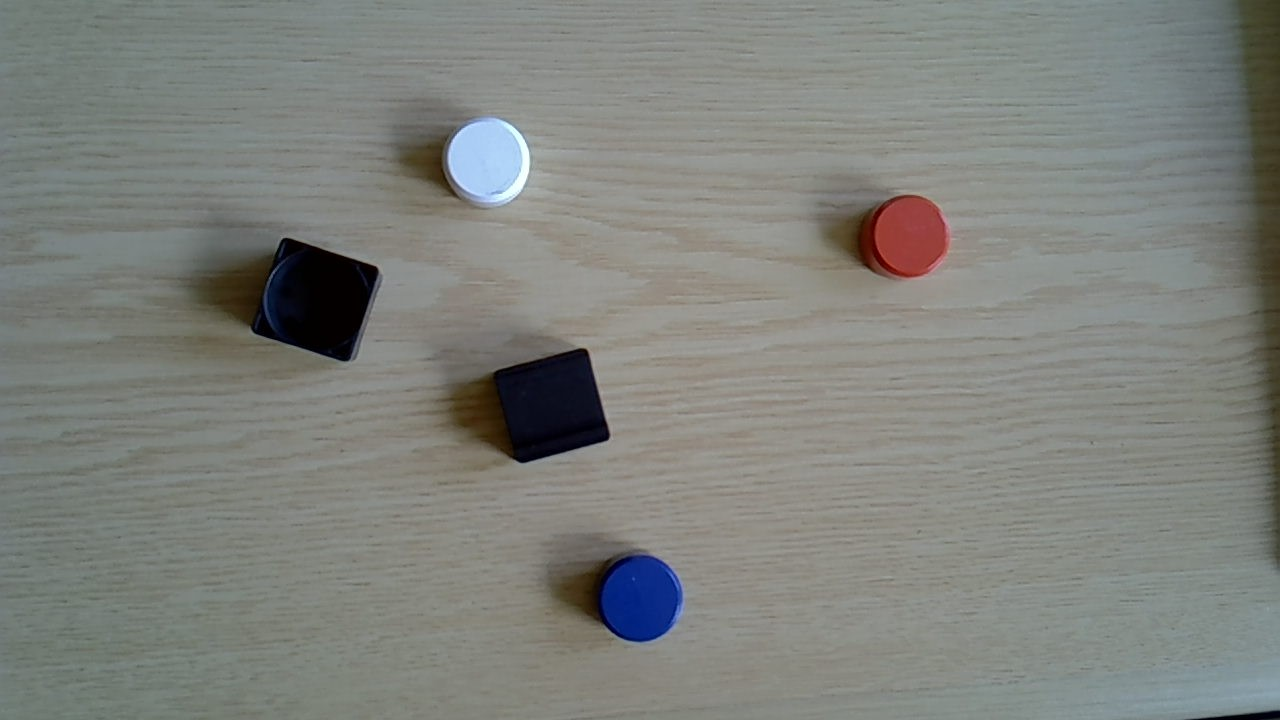Behaelter: (251, 237, 382, 365), (495, 347, 613, 466)
WerkStueck: (855, 190, 952, 284), (442, 116, 533, 211), (595, 551, 686, 643)
